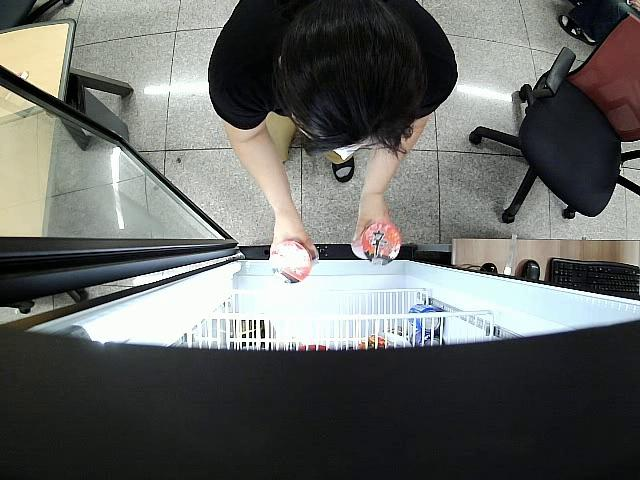00_hand: (271, 211, 316, 257), (351, 199, 391, 243)
02_shinRamen_S: (268, 238, 321, 285), (349, 222, 401, 266)
